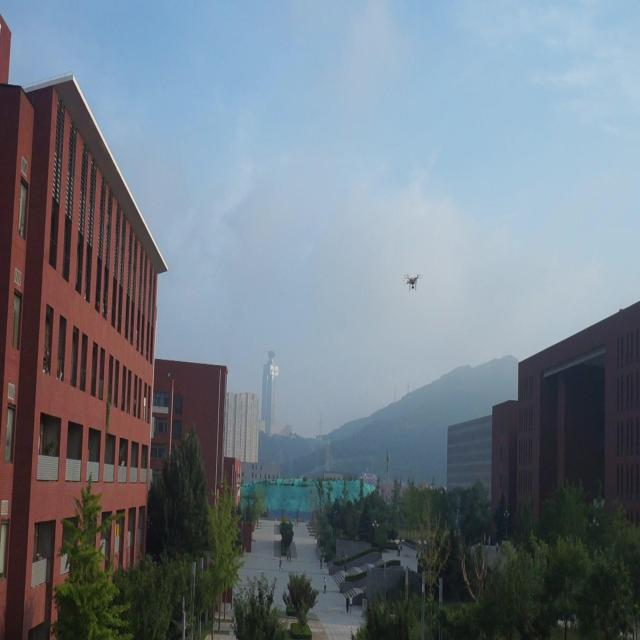drone: (404, 271, 420, 292)
